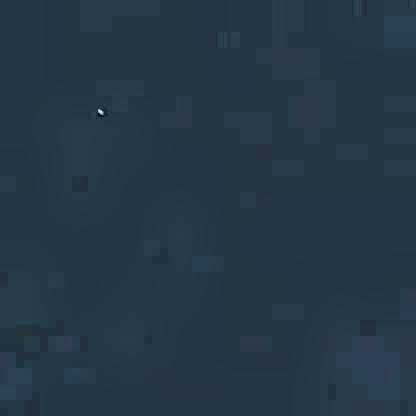golfball: (93, 104, 104, 115)
